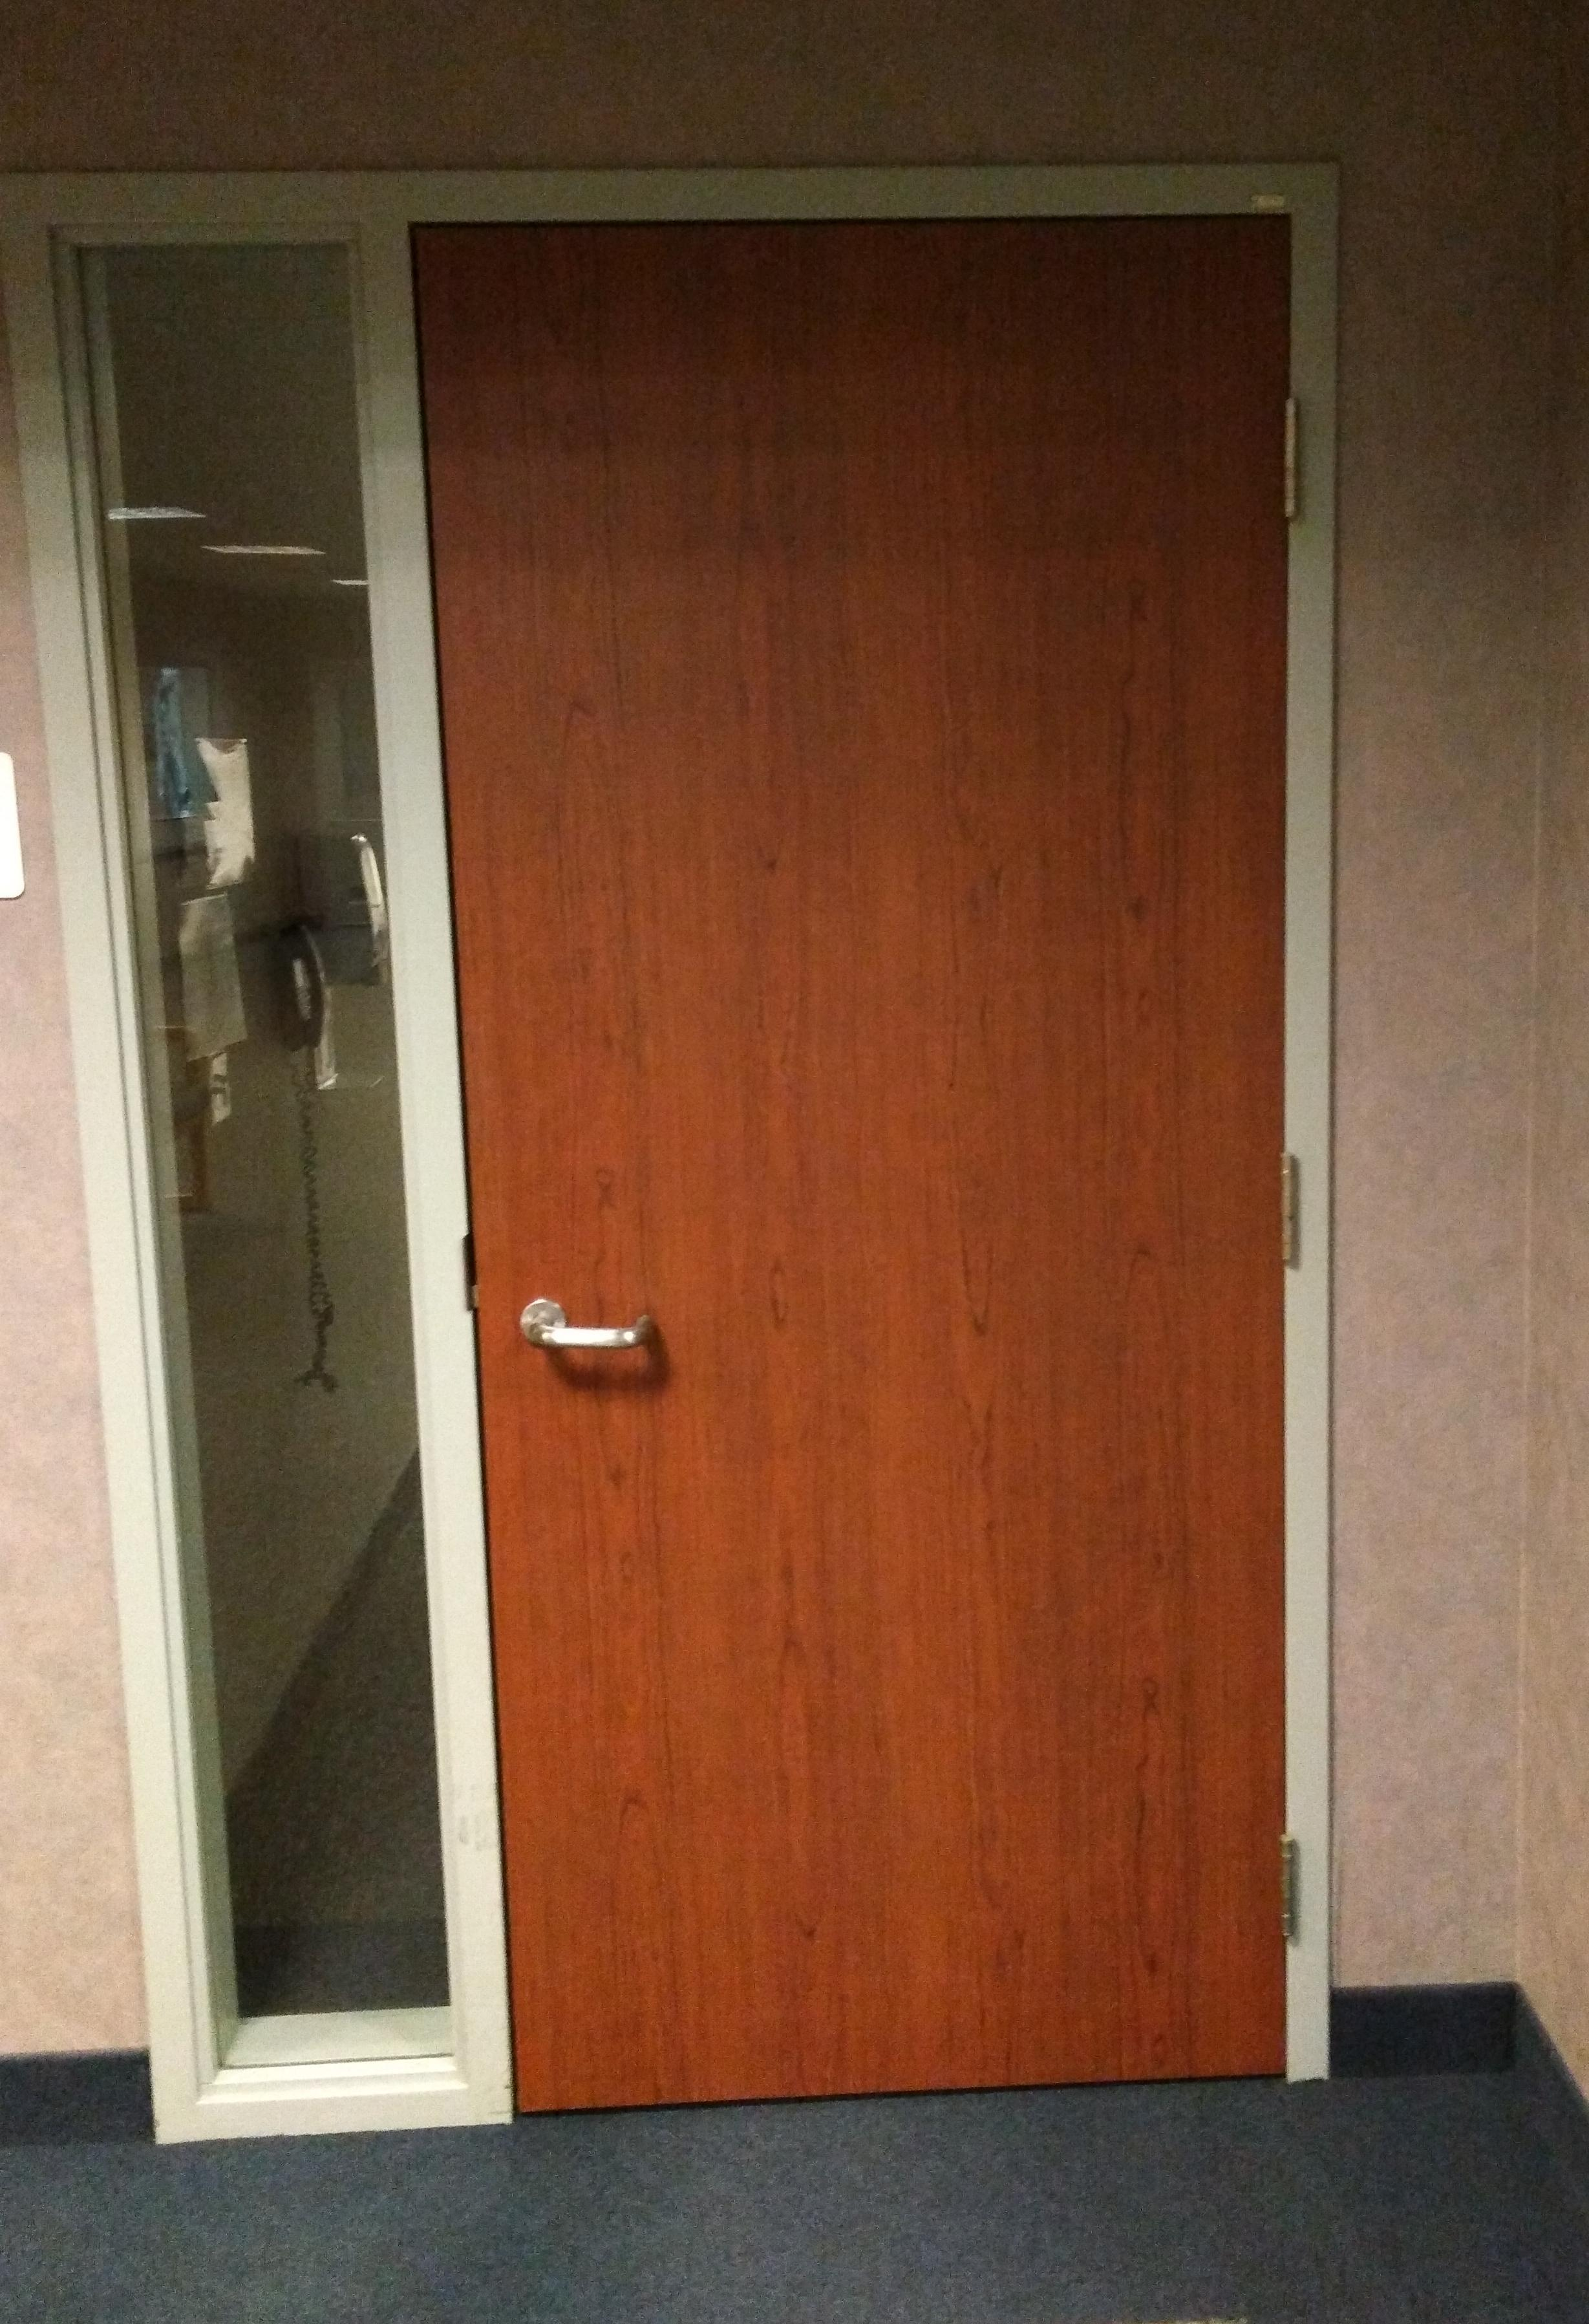door: (351, 162, 1342, 2121)
